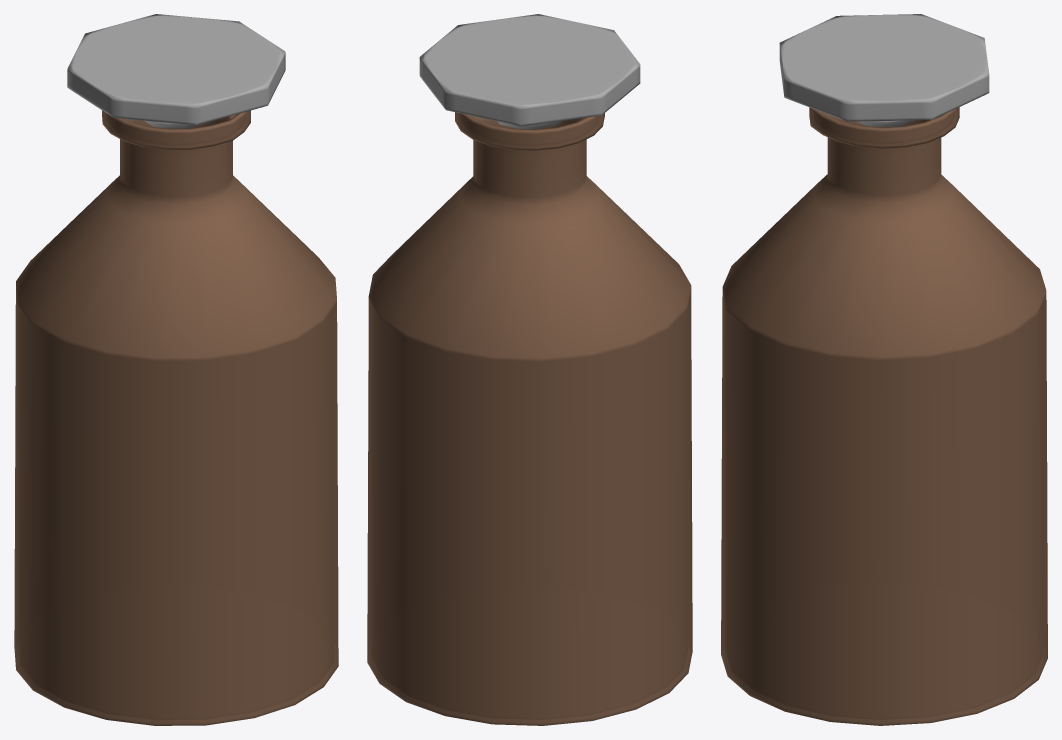
The model's file is Heptane.fbx.
3 views of the same model, side by side, from view 1: azimuth 30°, elevation 25°; view 2: azimuth 150°, elevation 25°; view 3: azimuth 270°, elevation 25° (orthographic).
Visible parts, largest first — view 1: bottle, cap; view 2: bottle, cap; view 3: bottle, cap.
Boxes of the visible parts, box(x1,y1,x2,y2) form: bottle: box(14, 110, 338, 725); cap: box(67, 14, 285, 128); bottle: box(367, 112, 692, 725); cap: box(419, 14, 640, 129); bottle: box(721, 107, 1047, 725); cap: box(779, 14, 989, 127).
Bounding box in the file's own units: 0.0808 × 0.1632 × 0.0807.
